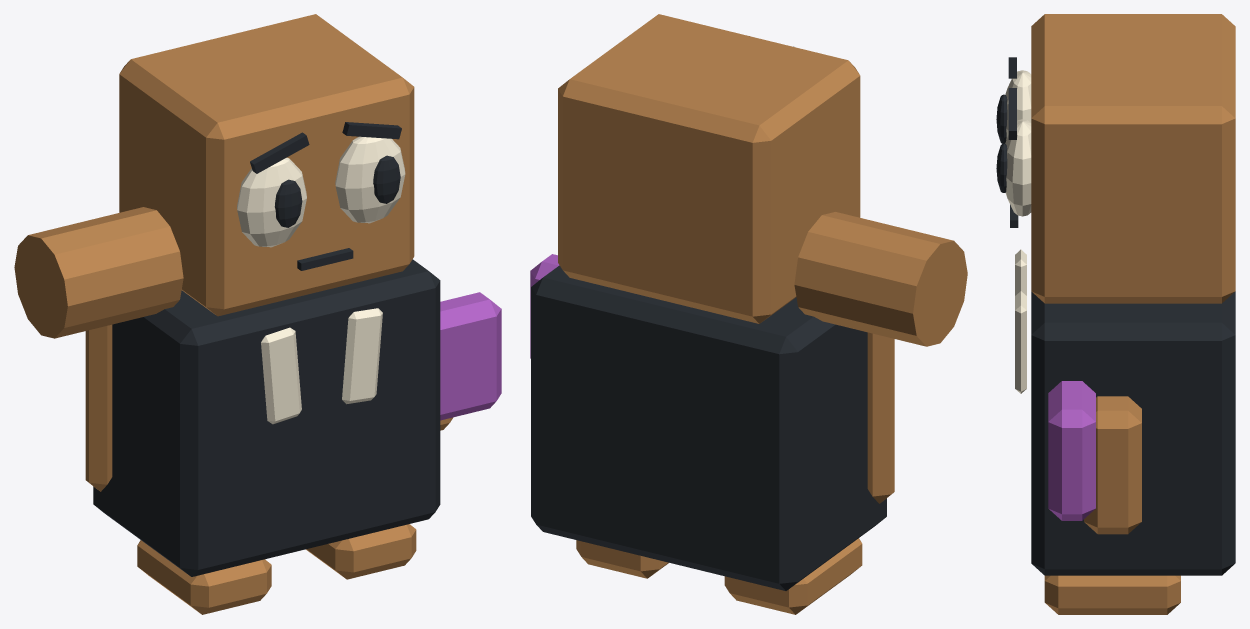
Rendered from judge.glb.
3 renders of one model, left to right at view 1: azimuth 30°, elevation 25°; view 2: azimuth 150°, elevation 25°; view 3: azimuth 270°, elevation 25°, orthographic. The views are drawn at different scales.
Visible parts, largest first — view 1: judge; view 2: judge; view 3: judge.
Boxes of the visible parts, x1,y1,x2,y2 form: judge: (14, 14, 501, 614); judge: (530, 14, 967, 614); judge: (996, 14, 1235, 614).
Size of the model in its own units: 1.47 by 1.64 by 0.702.
